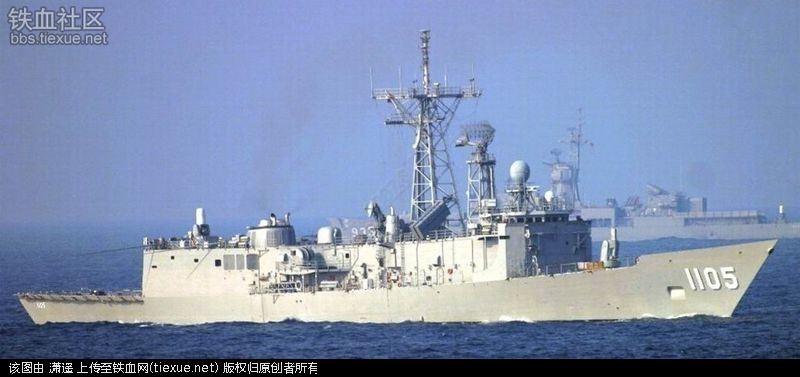warship: (14, 24, 785, 329)
